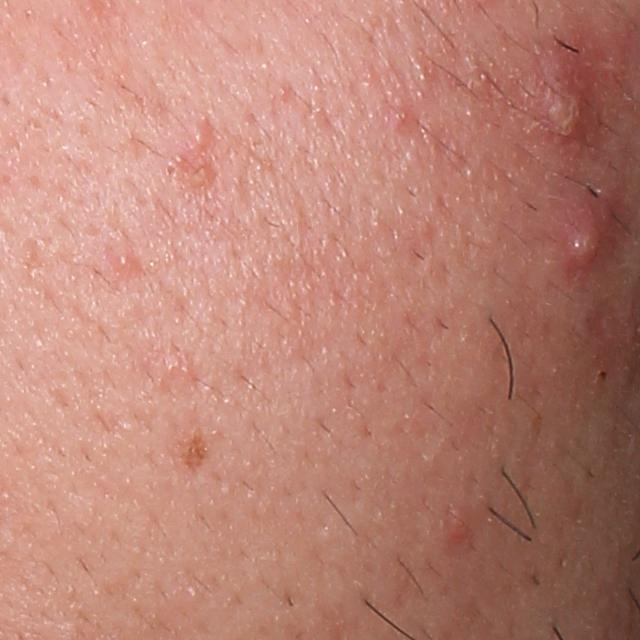comedo: (110, 245, 138, 279)
papule: (438, 504, 475, 554)
